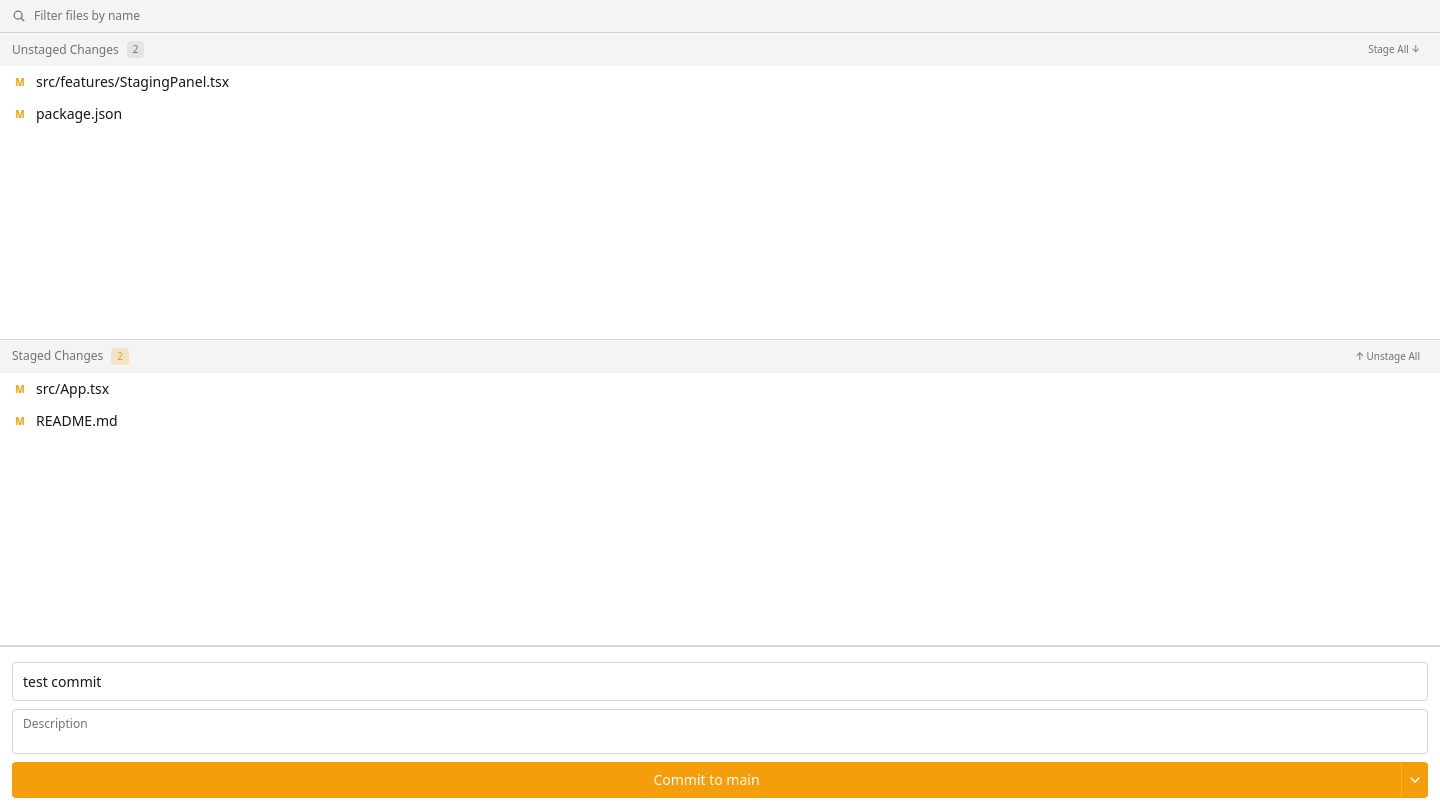
Test: StagingPanel — file filter › filters staged and unstaged files case-insensitively
This screenshot has width=1440, height=810.
Type "tsx" into the field with test id "staging-filter-input" at (731, 16), box [34,8,1428,24]
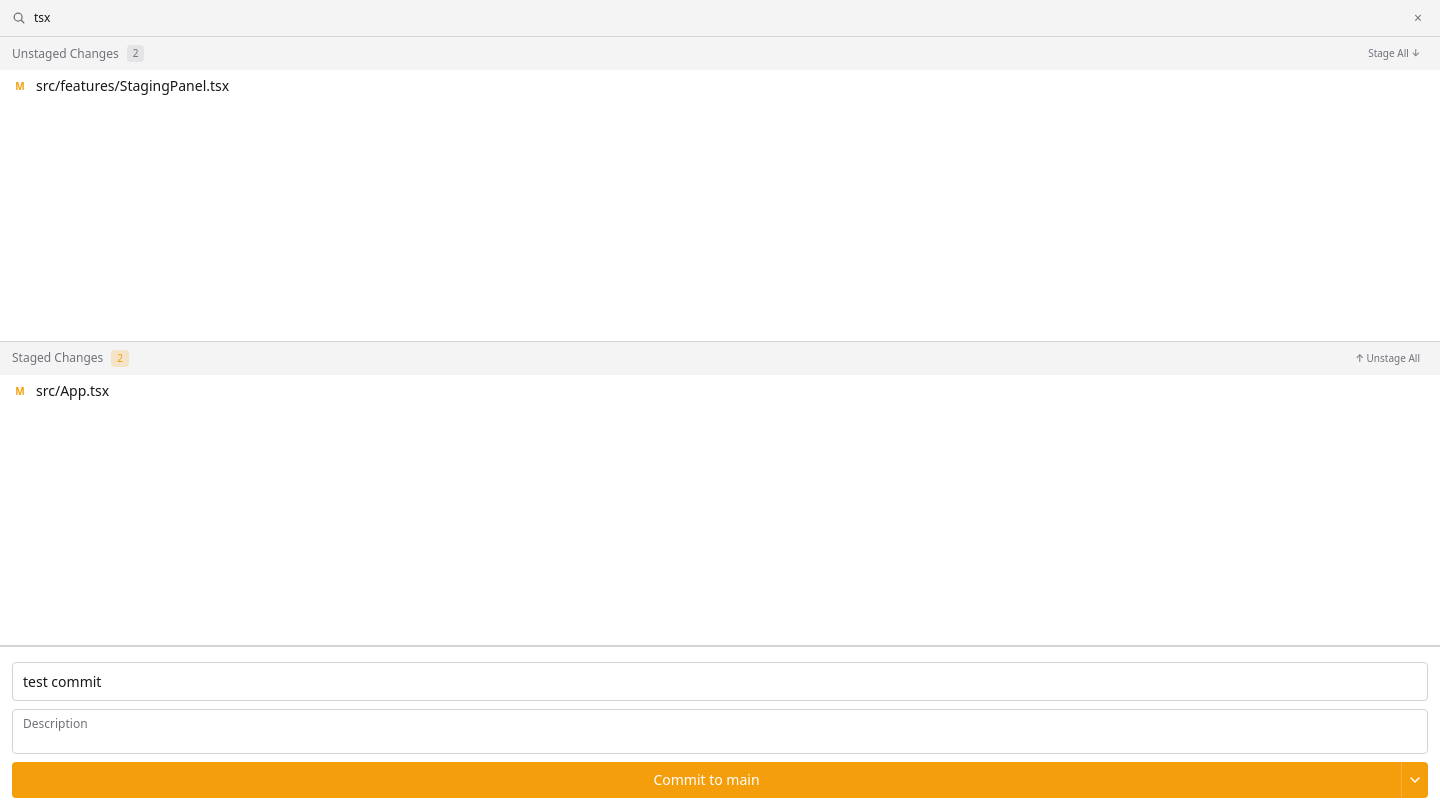
Check: the text "src/App.tsx" is shown, box [36,381,109,400]
Check: the text "README.md" is gone
Check: the text "package.json" is gone
Replace the text in the field with test id "staging-filter-input" with "readme" at (717, 18), box [34,10,1400,26]
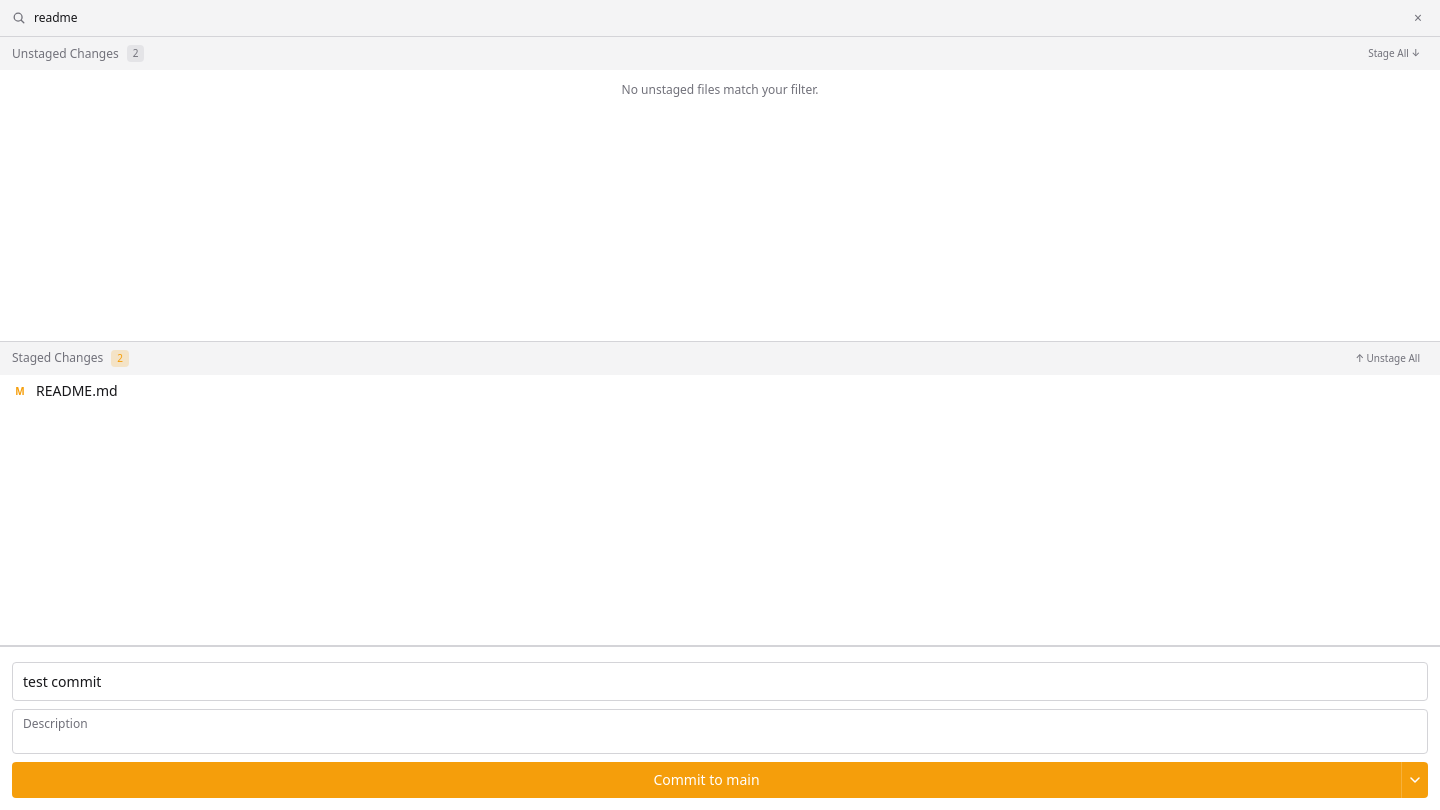
Check: the text "README.md" is shown, box [36,381,118,400]
